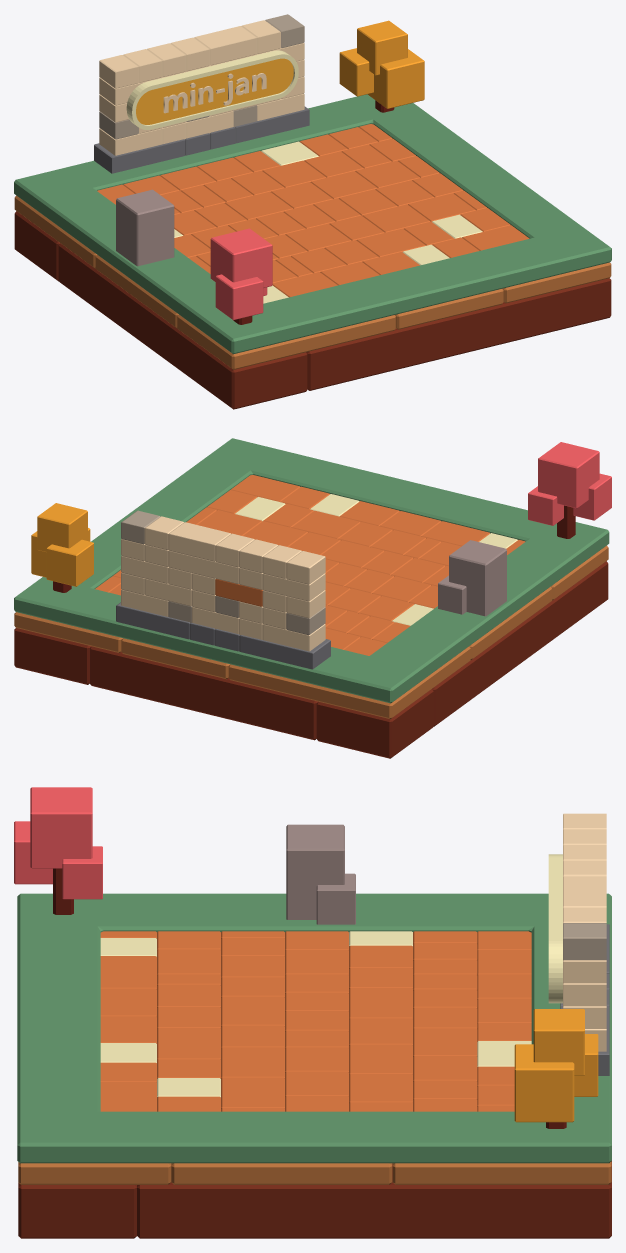
Rendered from stage.glb.
3 renders of one model, top to bottom at view 1: azimuth 30°, elevation 25°; view 2: azimuth 150°, elevation 25°; view 3: azimuth 270°, elevation 25°, orthographic. The views are drawn at different scales.
Visible parts, largest first — view 1: 立方体.014, 立方体.001, 立方体.005, 立方体.199, 立方体.157, 立方体.007, 立方体.152, 立方体.155, 立方体.153, 立方体.151, 立方体.004, 立方体 (+63 smaller); view 2: 立方体.014, 立方体.003, 立方体.005, 立方体.004, 立方体.013, 立方体.157, 立方体.152, 立方体.002, 立方体.153, 立方体.154, 立方体.011, 立方体.012 (+58 smaller); view 3: 立方体.014, 立方体.002, 立方体.001, 立方体.010, 立方体.152, 立方体.011, 立方体.157, 立方体.155, 立方体, 立方体.153, 立方体.199, 立方体.079 (+71 smaller).
Part boxes in pixels (bbox=[...]): 立方体.014: bbox=[14, 94, 611, 354]; 立方体.001: bbox=[306, 278, 611, 390]; 立方体.005: bbox=[58, 243, 307, 409]; 立方体.199: bbox=[126, 50, 298, 129]; 立方体.157: bbox=[116, 189, 174, 266]; 立方体.007: bbox=[177, 315, 395, 369]; 立方体.152: bbox=[210, 228, 272, 287]; 立方体.155: bbox=[368, 49, 424, 108]; 立方体.153: bbox=[357, 20, 407, 75]; 立方体.151: bbox=[215, 274, 263, 320]; 立方体.004: bbox=[14, 211, 59, 281]; 立方体: bbox=[502, 262, 611, 303]; 立方体.014: bbox=[14, 438, 609, 703]; 立方体.003: bbox=[90, 646, 317, 740]; 立方体.005: bbox=[432, 561, 608, 726]; 立方体.004: bbox=[316, 689, 433, 758]; 立方体.013: bbox=[228, 646, 470, 719]; 立方体.157: bbox=[449, 540, 506, 616]; 立方体.152: bbox=[538, 442, 599, 508]; 立方体.002: bbox=[14, 628, 91, 684]; 立方体.153: bbox=[37, 503, 87, 552]; 立方体.154: bbox=[46, 539, 93, 586]; 立方体.011: bbox=[14, 612, 122, 652]; 立方体.012: bbox=[121, 638, 229, 679]; 立方体.014: bbox=[17, 893, 611, 1163]; 立方体.002: bbox=[137, 1161, 611, 1238]; 立方体.001: bbox=[18, 1183, 136, 1238]; 立方体.010: bbox=[171, 1163, 392, 1184]; 立方体.152: bbox=[30, 787, 92, 868]; 立方体.011: bbox=[392, 1161, 611, 1184]; 立方体.157: bbox=[286, 824, 344, 919]; 立方体.155: bbox=[514, 1044, 574, 1122]; 立方体: bbox=[18, 1162, 171, 1184]; 立方体.153: bbox=[533, 1009, 584, 1075]; 立方体.199: bbox=[548, 854, 562, 1003]; 立方体.079: bbox=[157, 1028, 220, 1059].
Bounding box in the file's own units: 10.04 × 4.31 × 10.08.
